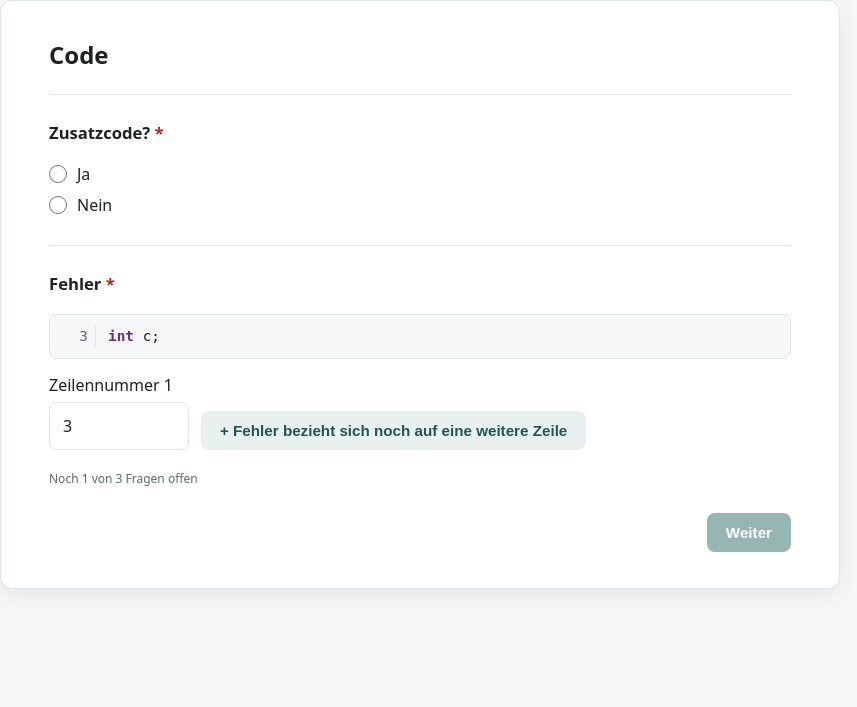
Test: conditional code reserves its lines so showing it does not renumber later answers
The width and height of the screenshot is (857, 707).
Click the radio button labelled "Ja" at (58, 174), box [49, 165, 67, 183]
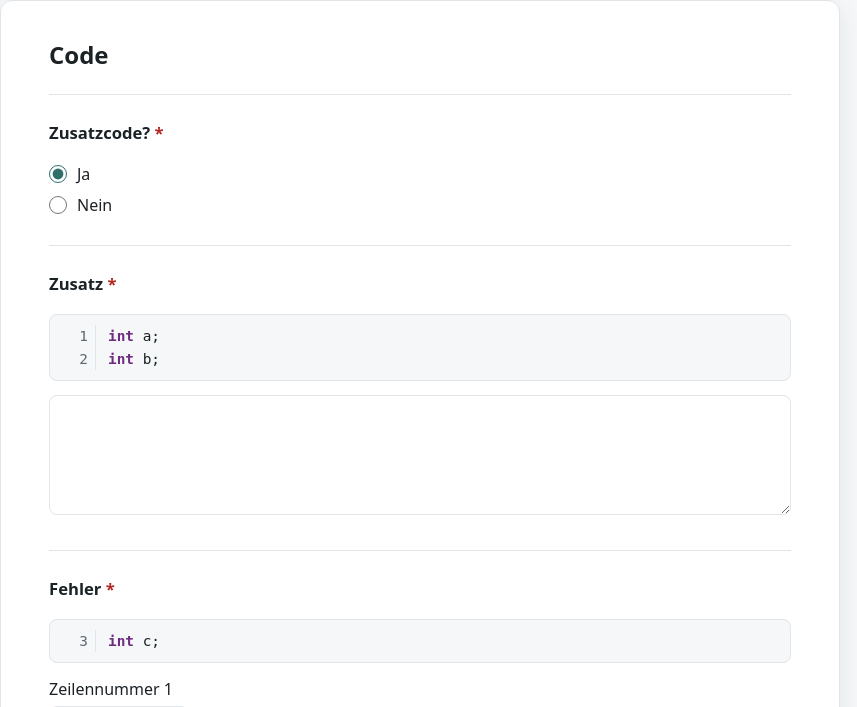
Result: the number of elements with class "code__line" is 3 at [62, 328, 160, 344]; [62, 351, 160, 367]; [62, 633, 160, 649]
Click the radio button labelled "Nein" at (58, 205), box [49, 196, 67, 214]
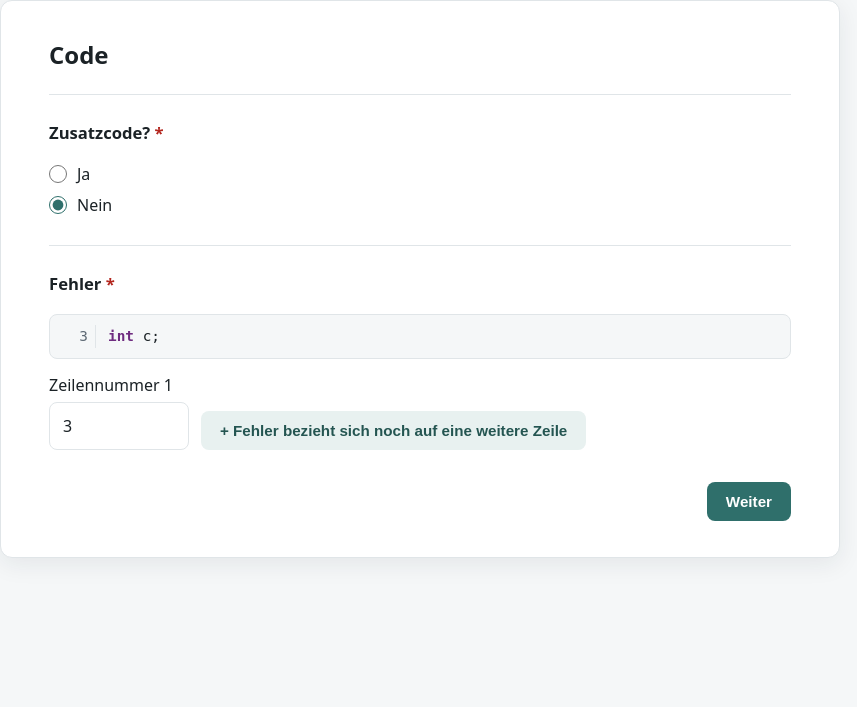
Expected: the number field holds "3", [49, 402, 189, 450]
Result: the number of elements with class "code__line" is 1 at [62, 328, 160, 344]
